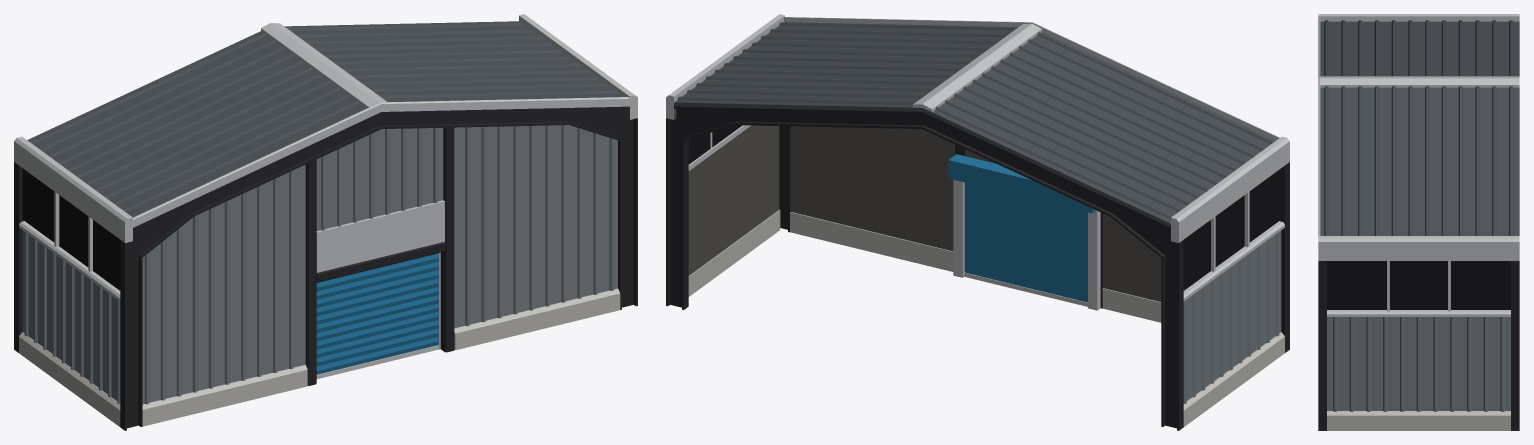
The model's file is skate-hall-bay-197a78.glb.
The picture shows the model from 3 angles, left to right: view 1: azimuth 30°, elevation 25°; view 2: azimuth 150°, elevation 25°; view 3: azimuth 270°, elevation 25°; orthographic projection. The views are drawn at different scales.
Parts seen in each view (by area): view 1: hall, door-curtain-mesh; view 2: hall, door-curtain-mesh; view 3: hall.
Boxes of the visible parts, x1,y1,x2,y2 form: hall: [14, 14, 637, 430]; door-curtain-mesh: [316, 253, 438, 379]; hall: [666, 14, 1289, 430]; door-curtain-mesh: [964, 182, 1087, 306]; hall: [1318, 14, 1519, 430].
Bounding box in the file's own units: 16 × 7.91 × 6.
